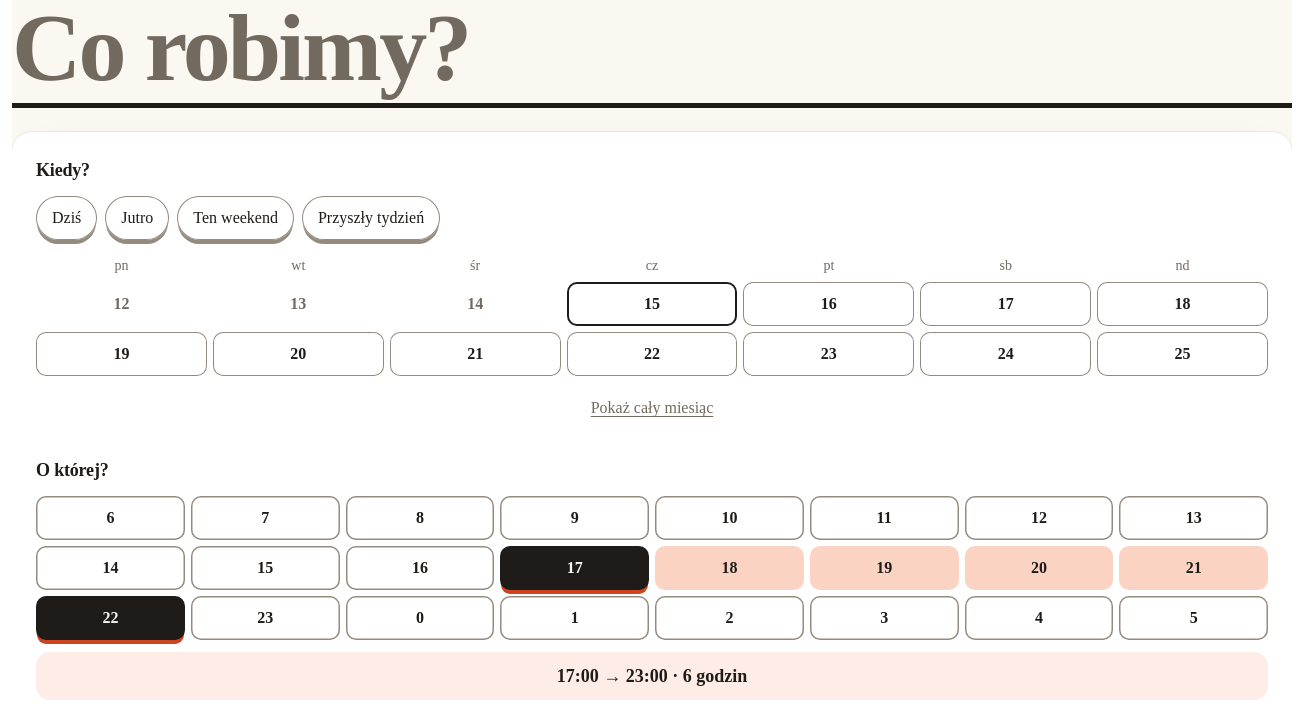
Utwórz i wyślij na grupę › says the poll was not created when the server refuses it
The width and height of the screenshot is (1304, 720).
Type "Kino" into the text box labelled "Co robimy?" at (652, 54), box [12, 0, 1292, 108]
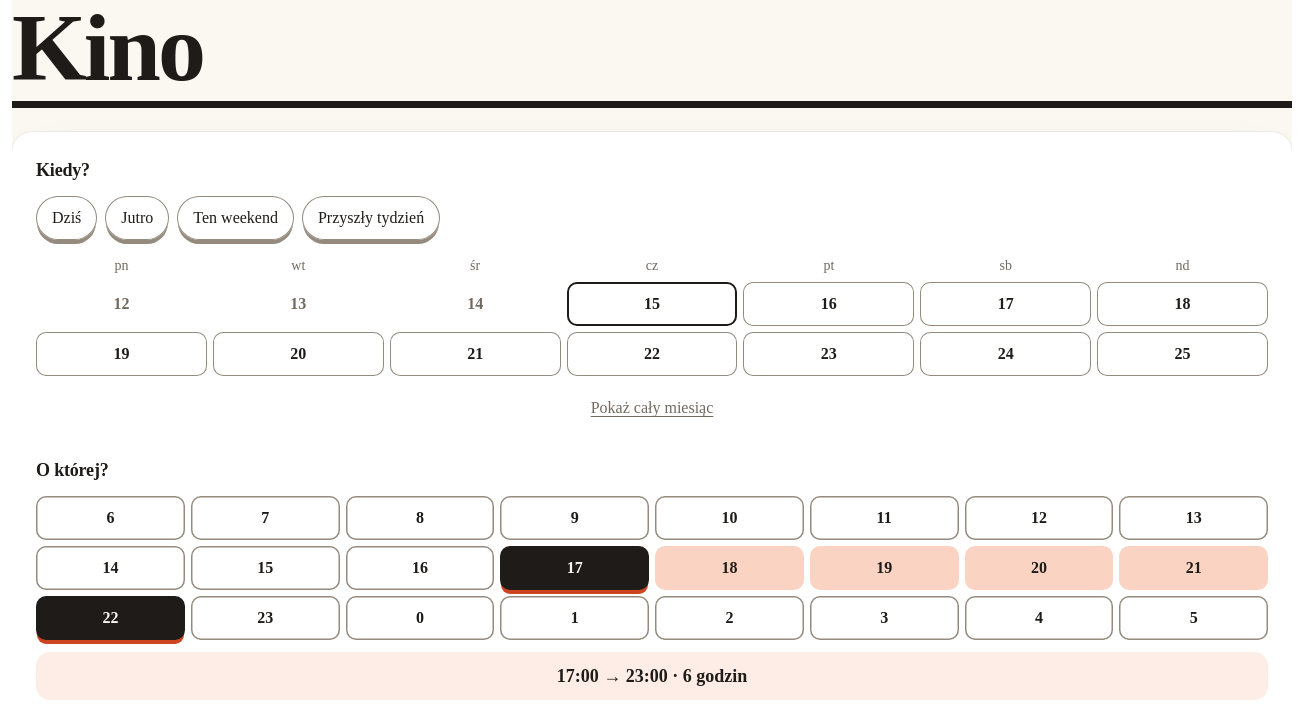
Click the button "Dziś" at (67, 218), box [36, 196, 97, 240]
(page scrolled)
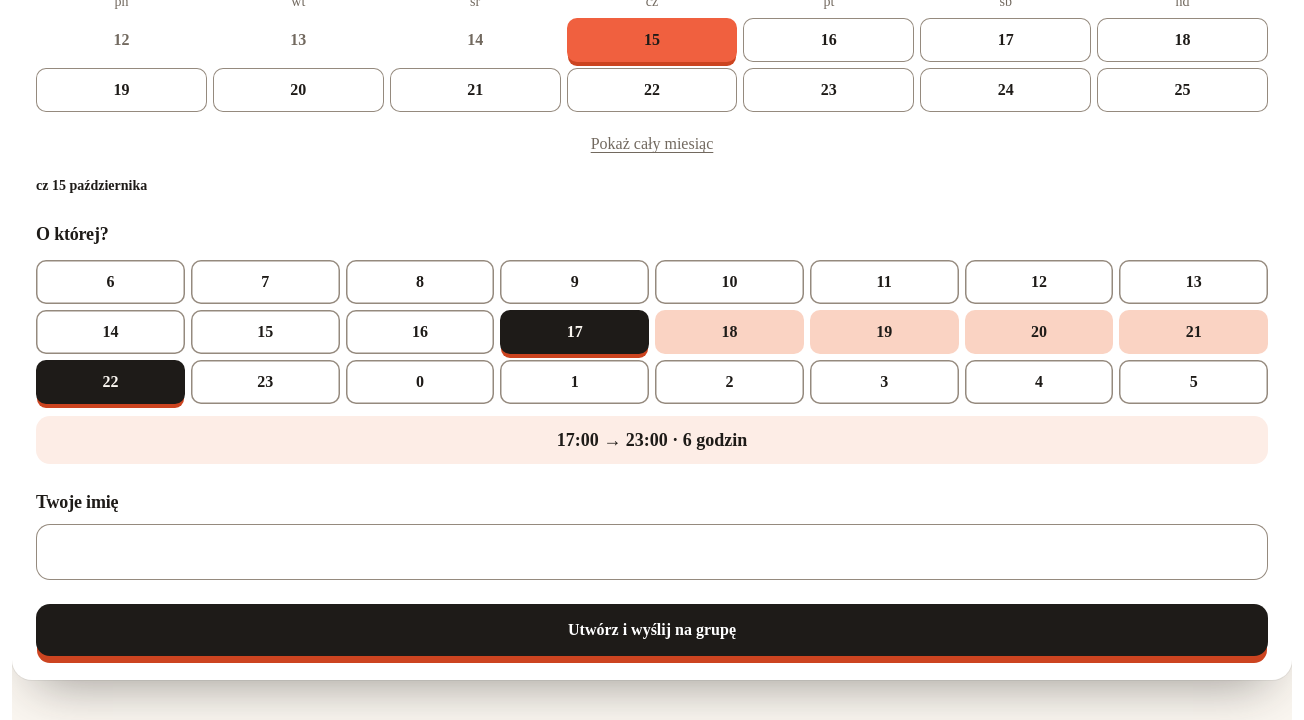
Type "Kuba" into the field labelled "Twoje imię" at (652, 552), box [36, 524, 1268, 580]
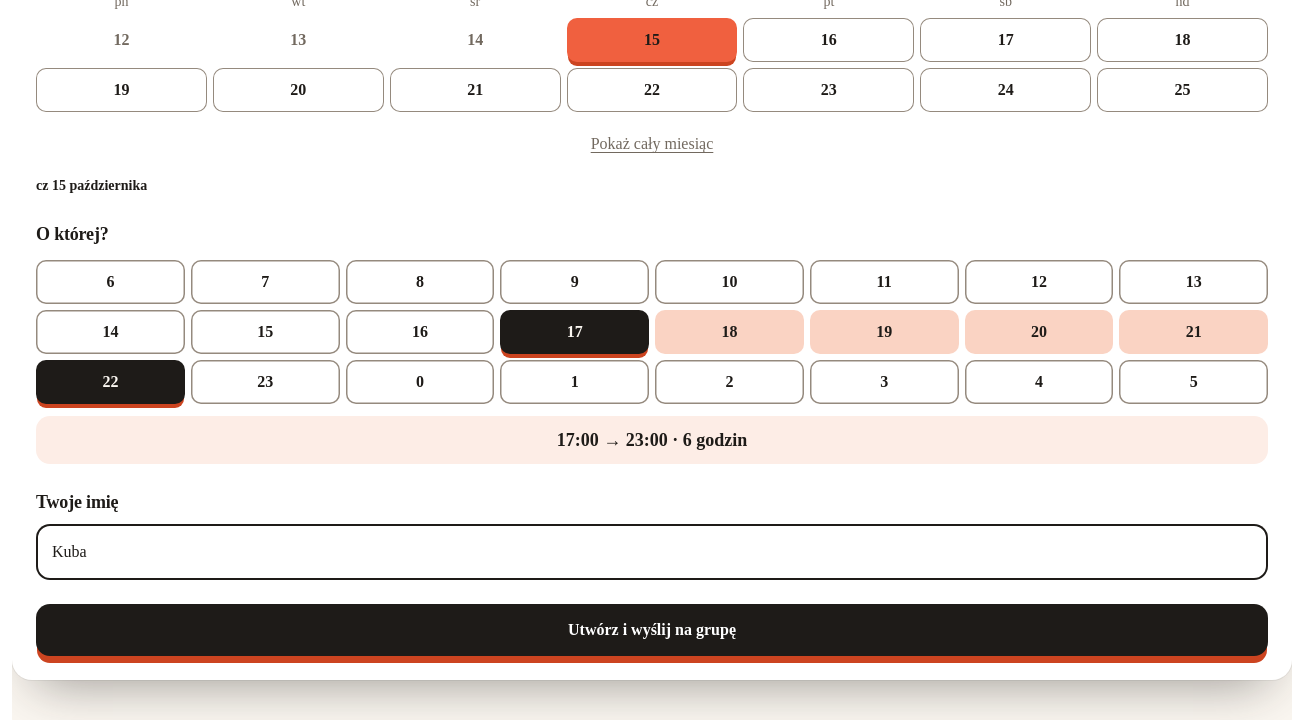
Click the button "Utwórz i wyślij na grupę" at (652, 630), box [36, 604, 1268, 656]
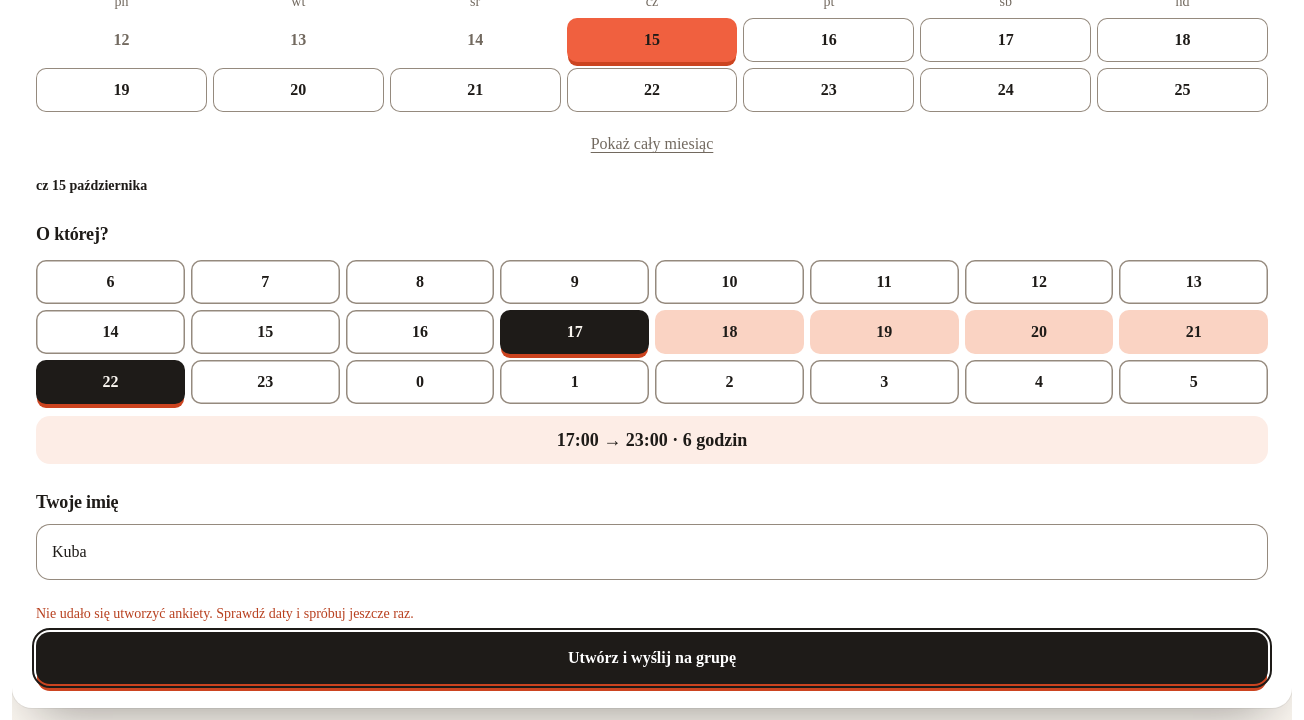
Expected: the text "Nie udało się utworzyć ankiety. Sprawdź daty i spróbuj jeszcze raz." is shown, [36, 606, 414, 621]
